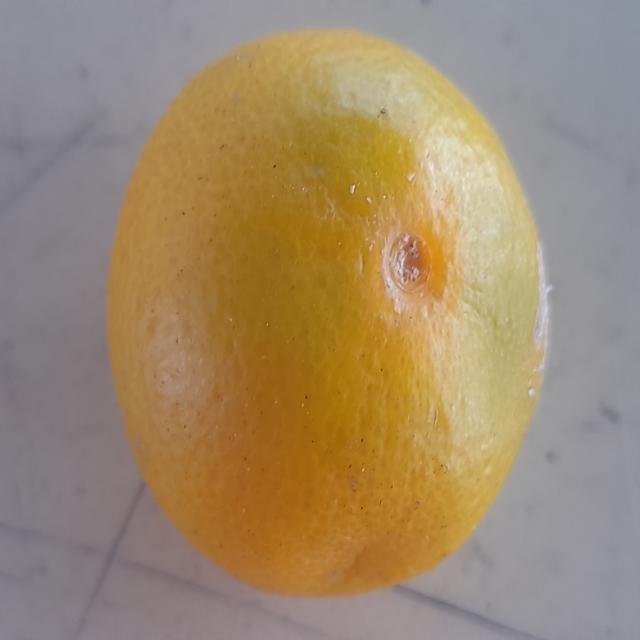greening: (101, 20, 555, 598)
